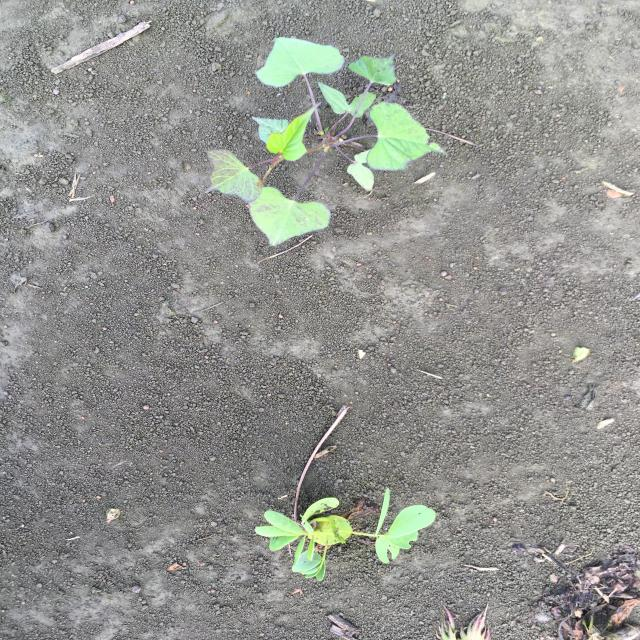MorningGlory: (201, 36, 451, 250)
Sicklepod: (252, 487, 439, 583)
